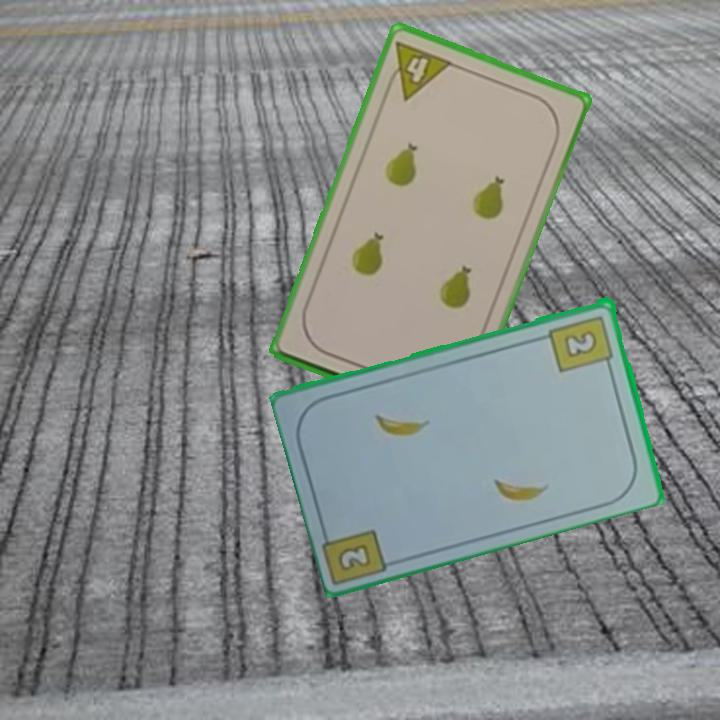2b: (546, 311, 617, 375), (334, 539, 375, 574)
4p: (380, 37, 455, 103)
